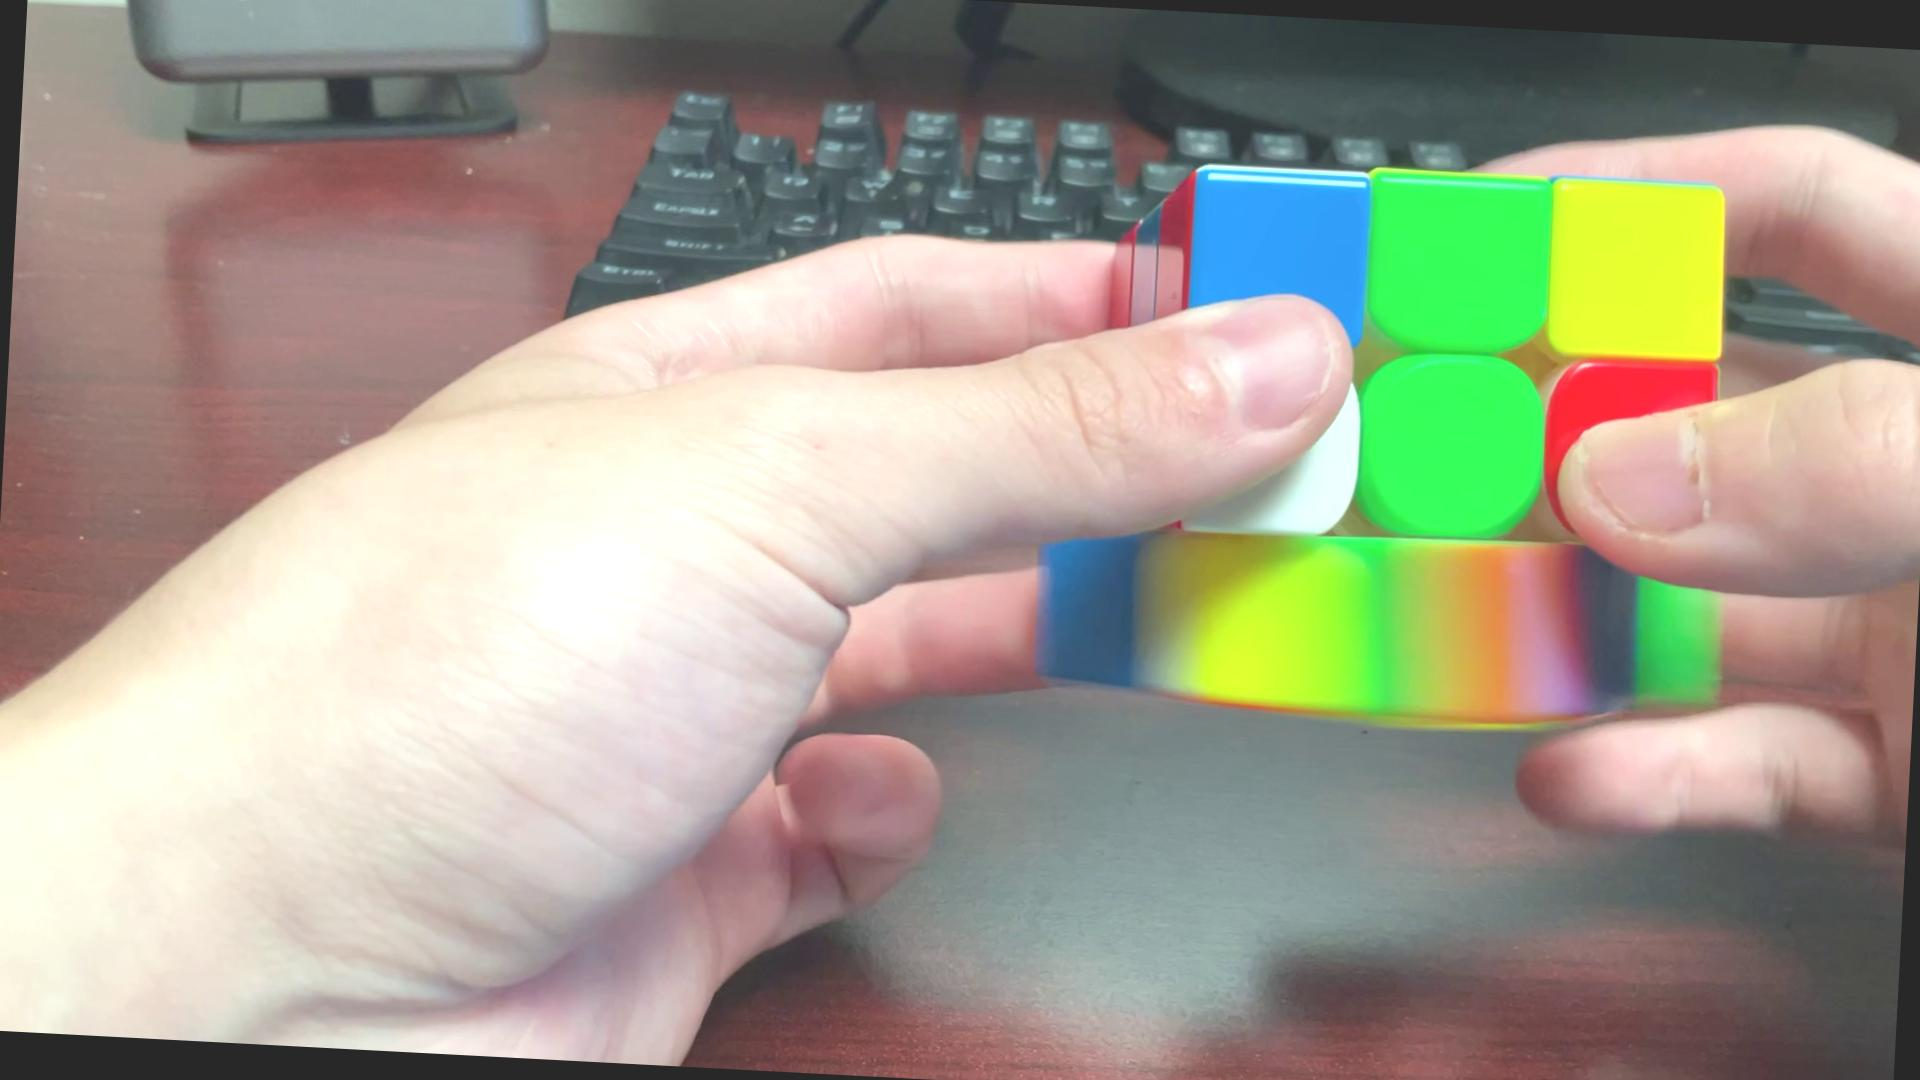Rubiks-Cube: (1018, 132, 1775, 753)
